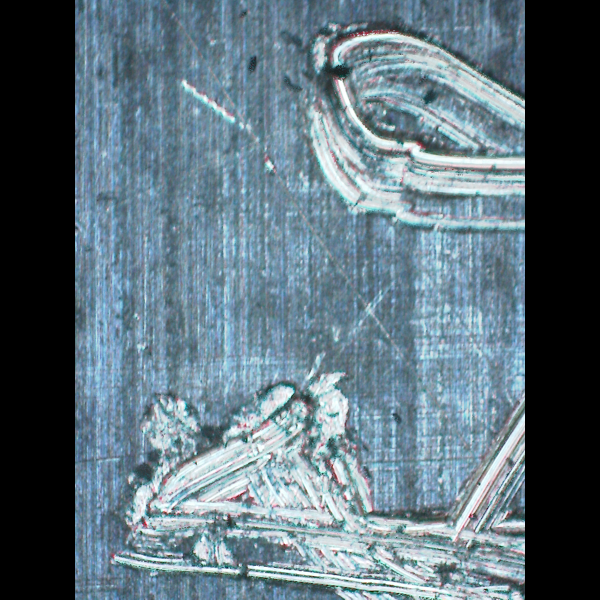d: (97, 352, 525, 600), (288, 11, 525, 259)
